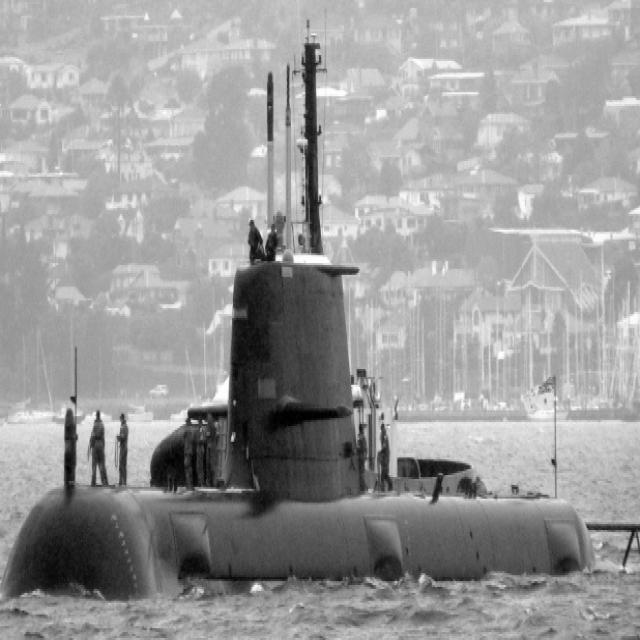submarine: (1, 42, 640, 612)
